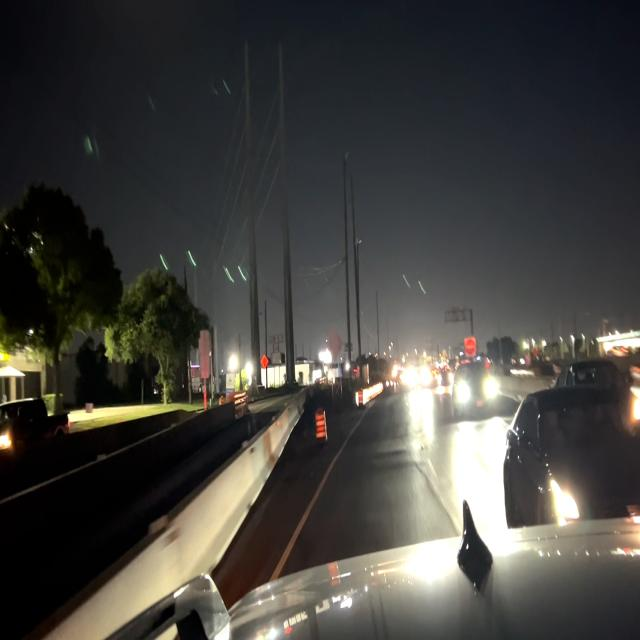back-of-sign: (442, 300, 470, 331), (326, 327, 345, 362)
